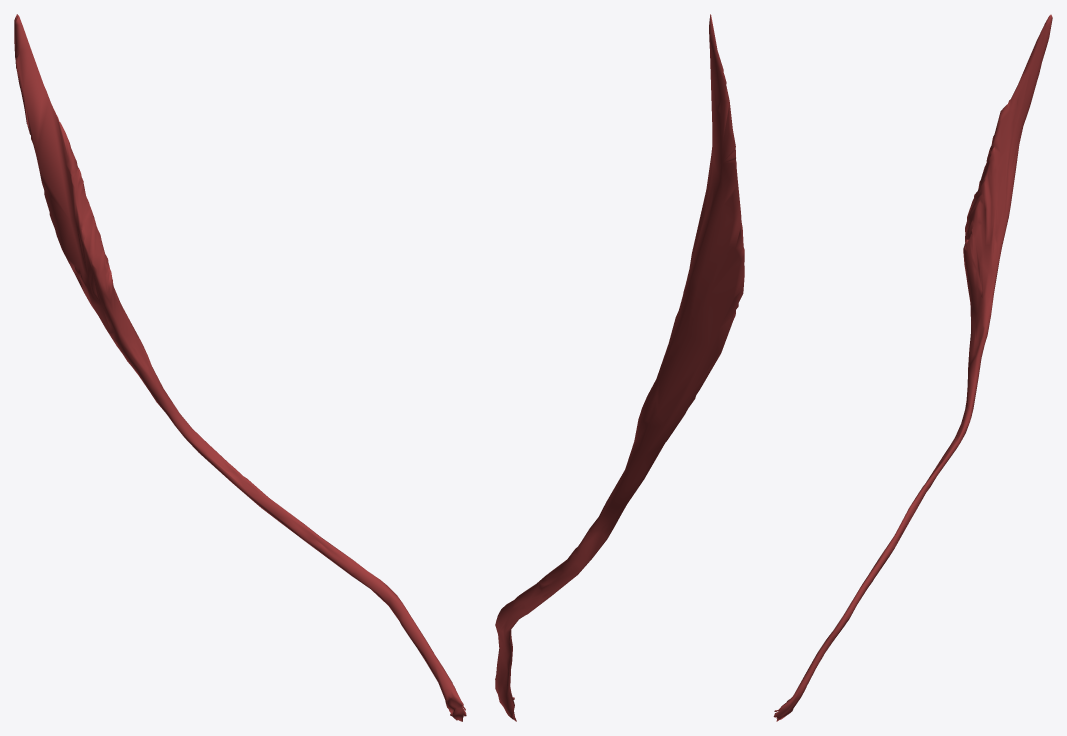
File: extensor-pollicis-longus-l.glb
3 views of the same model, side by side, from view 1: azimuth 30°, elevation 25°; view 2: azimuth 150°, elevation 25°; view 3: azimuth 270°, elevation 25° (orthographic). The views are drawn at different scales.
Parts seen in each view (by area): view 1: Extensor pollicis longus.l; view 2: Extensor pollicis longus.l; view 3: Extensor pollicis longus.l.
Part boxes in pixels (x1=…): Extensor pollicis longus.l: x1=14, y1=14, x2=466, y2=721; Extensor pollicis longus.l: x1=495, y1=14, x2=744, y2=721; Extensor pollicis longus.l: x1=773, y1=14, x2=1052, y2=721.
Size of the model in its own units: 0.0982 by 0.2091 by 0.0906.
